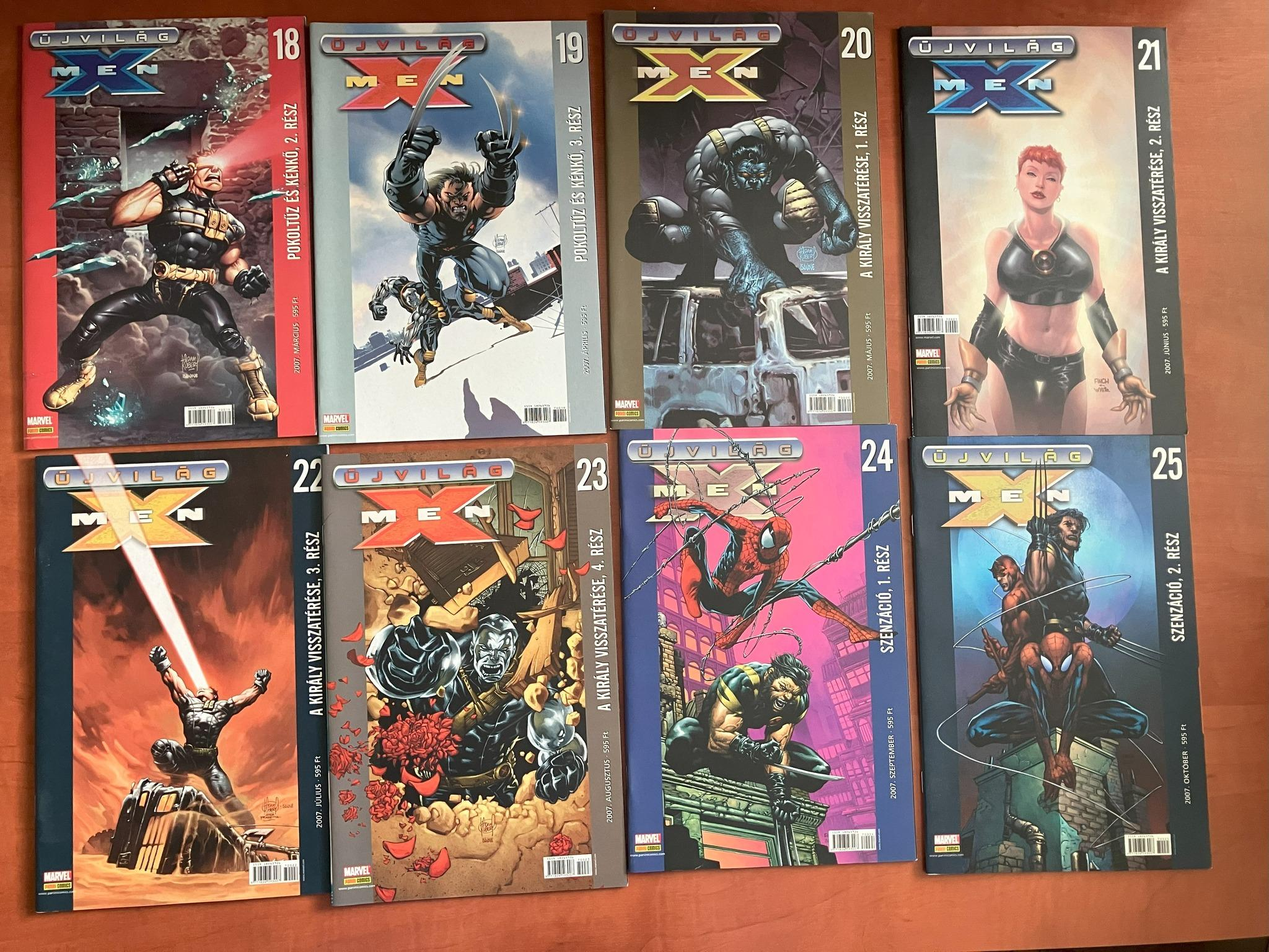comic: (319, 438, 626, 905), (26, 447, 331, 911), (910, 428, 1210, 877), (618, 423, 915, 872), (16, 17, 314, 449), (310, 18, 604, 443), (900, 20, 1185, 441), (603, 7, 887, 429)
